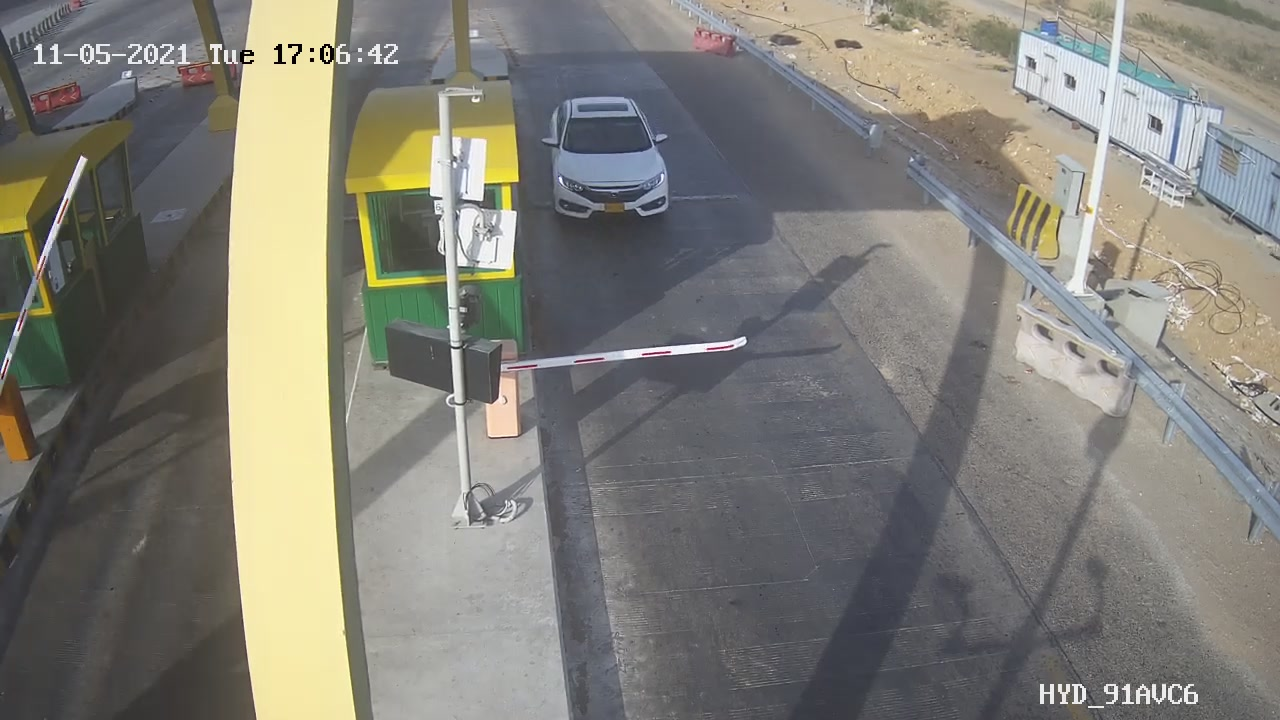F1: (530, 82, 696, 235)
